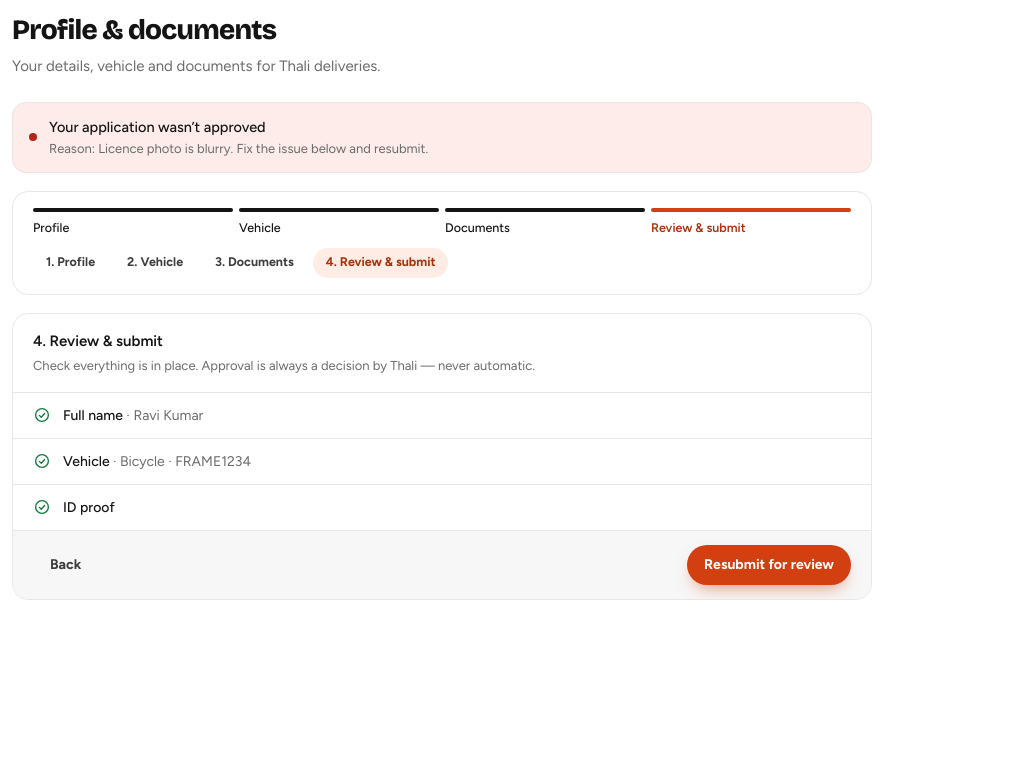
Test: PartnerOnboarding wizard › rejected: banner with reason, review step lists missing items with Fix, and Resubmit posts /submit
Expected: the text "Your application wasn’t approved" is shown, top-left (49, 118), bottom-right (266, 136)
Expected: the text "Licence photo is blurry" is shown, top-left (49, 141), bottom-right (236, 156)
What coordinates should you click on to do the following:
click the button "Resubmit for review"
I would click on:
 (769, 565)
Its box is top-left (687, 545), bottom-right (851, 585).
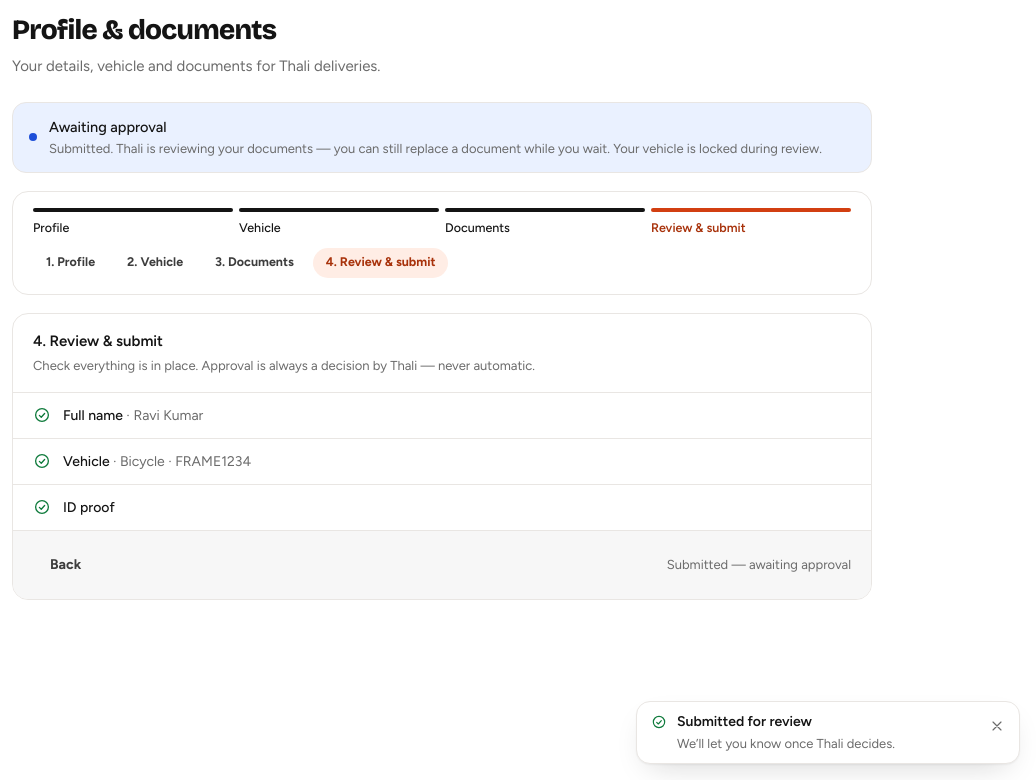
Expected: the text "Awaiting approval" is shown, top-left (49, 118), bottom-right (166, 136)
